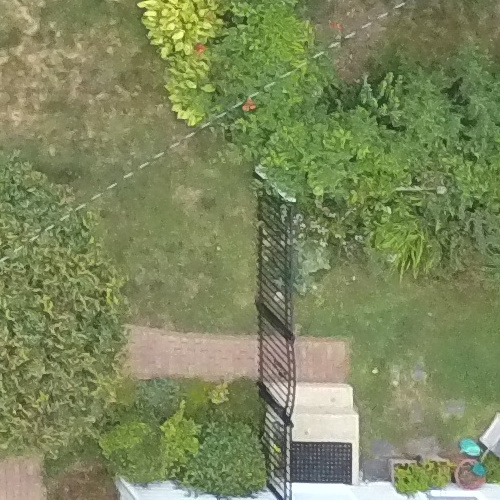flower pot: (444, 451, 490, 494)
watering can: (457, 439, 488, 461)
